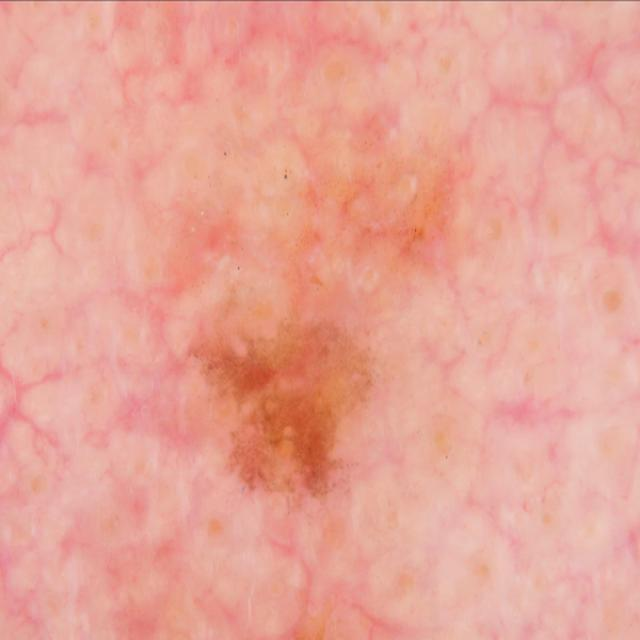Skin-Cancer Actinic Keratosis: (28, 48, 563, 640)
